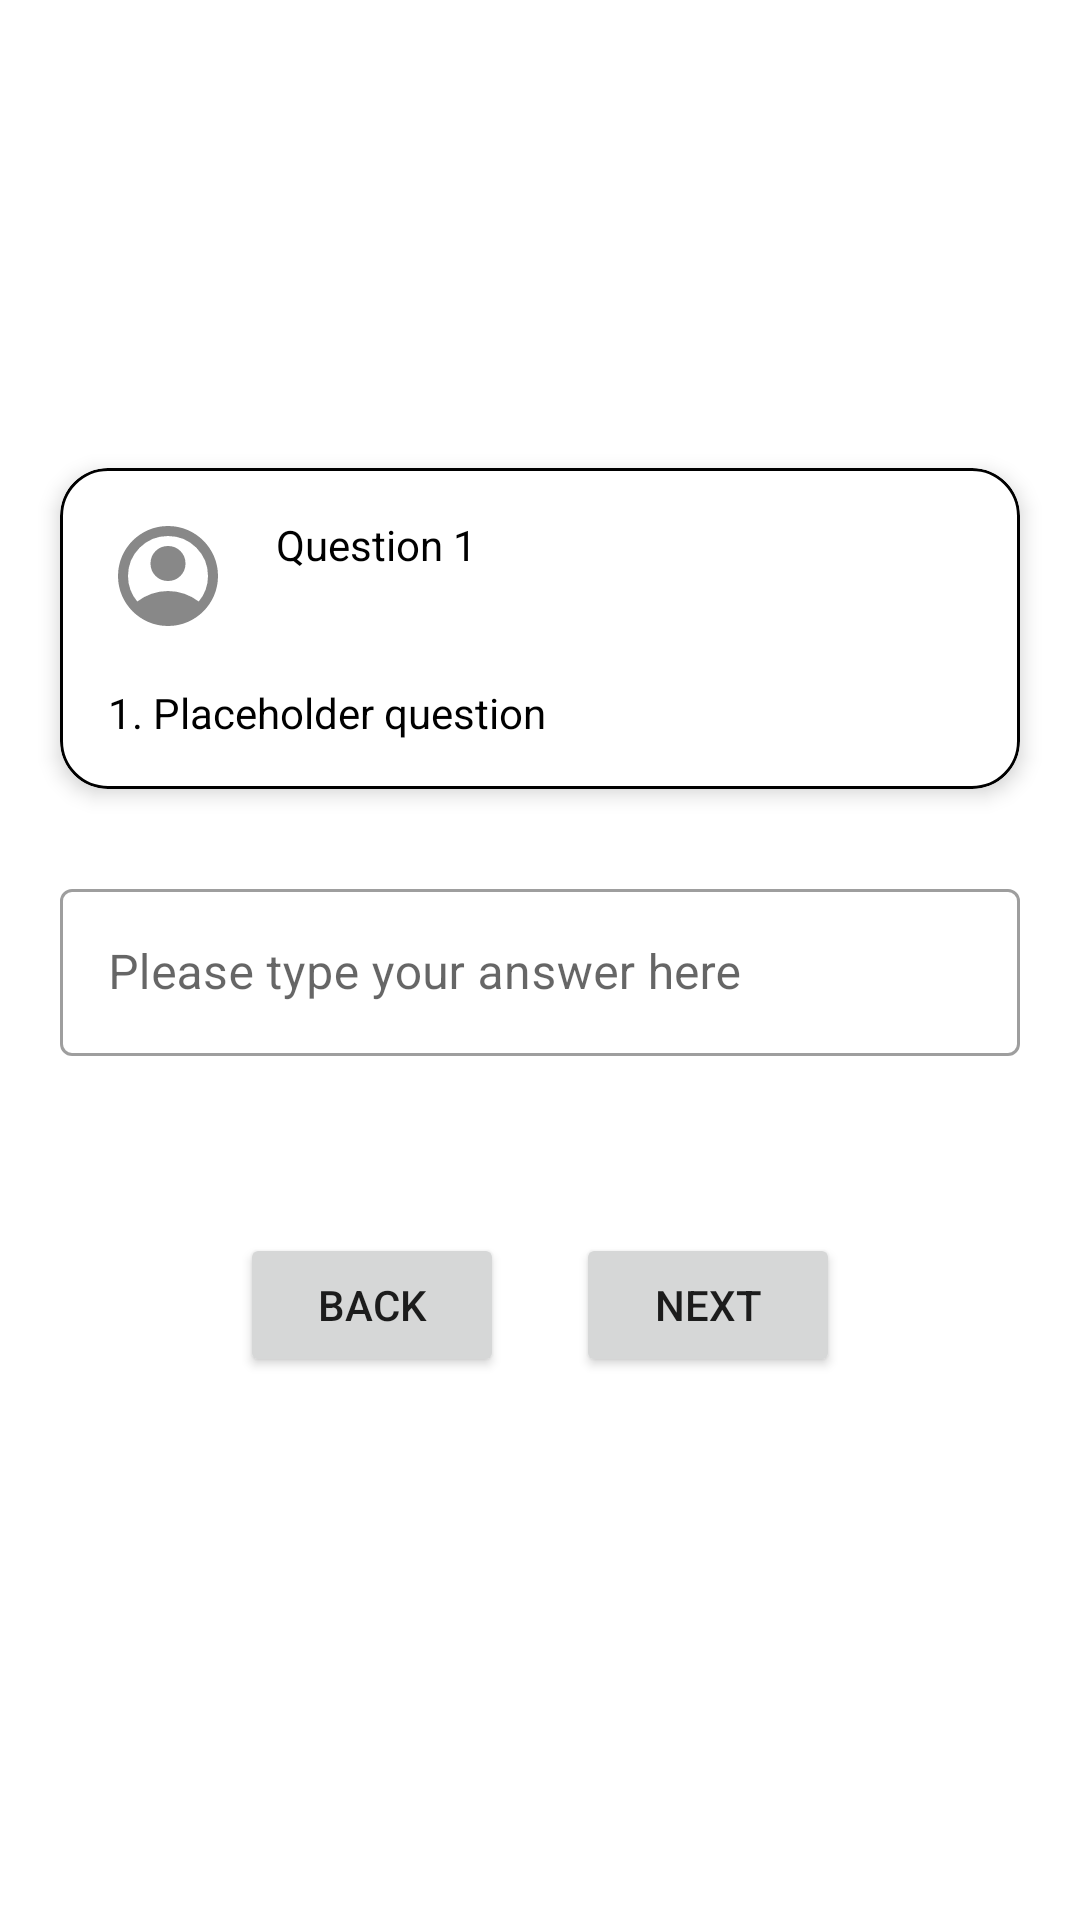

Point at icon controls on the screen. Image size 1080×1920, points as point (x, y).
account circle: point (168, 576)
